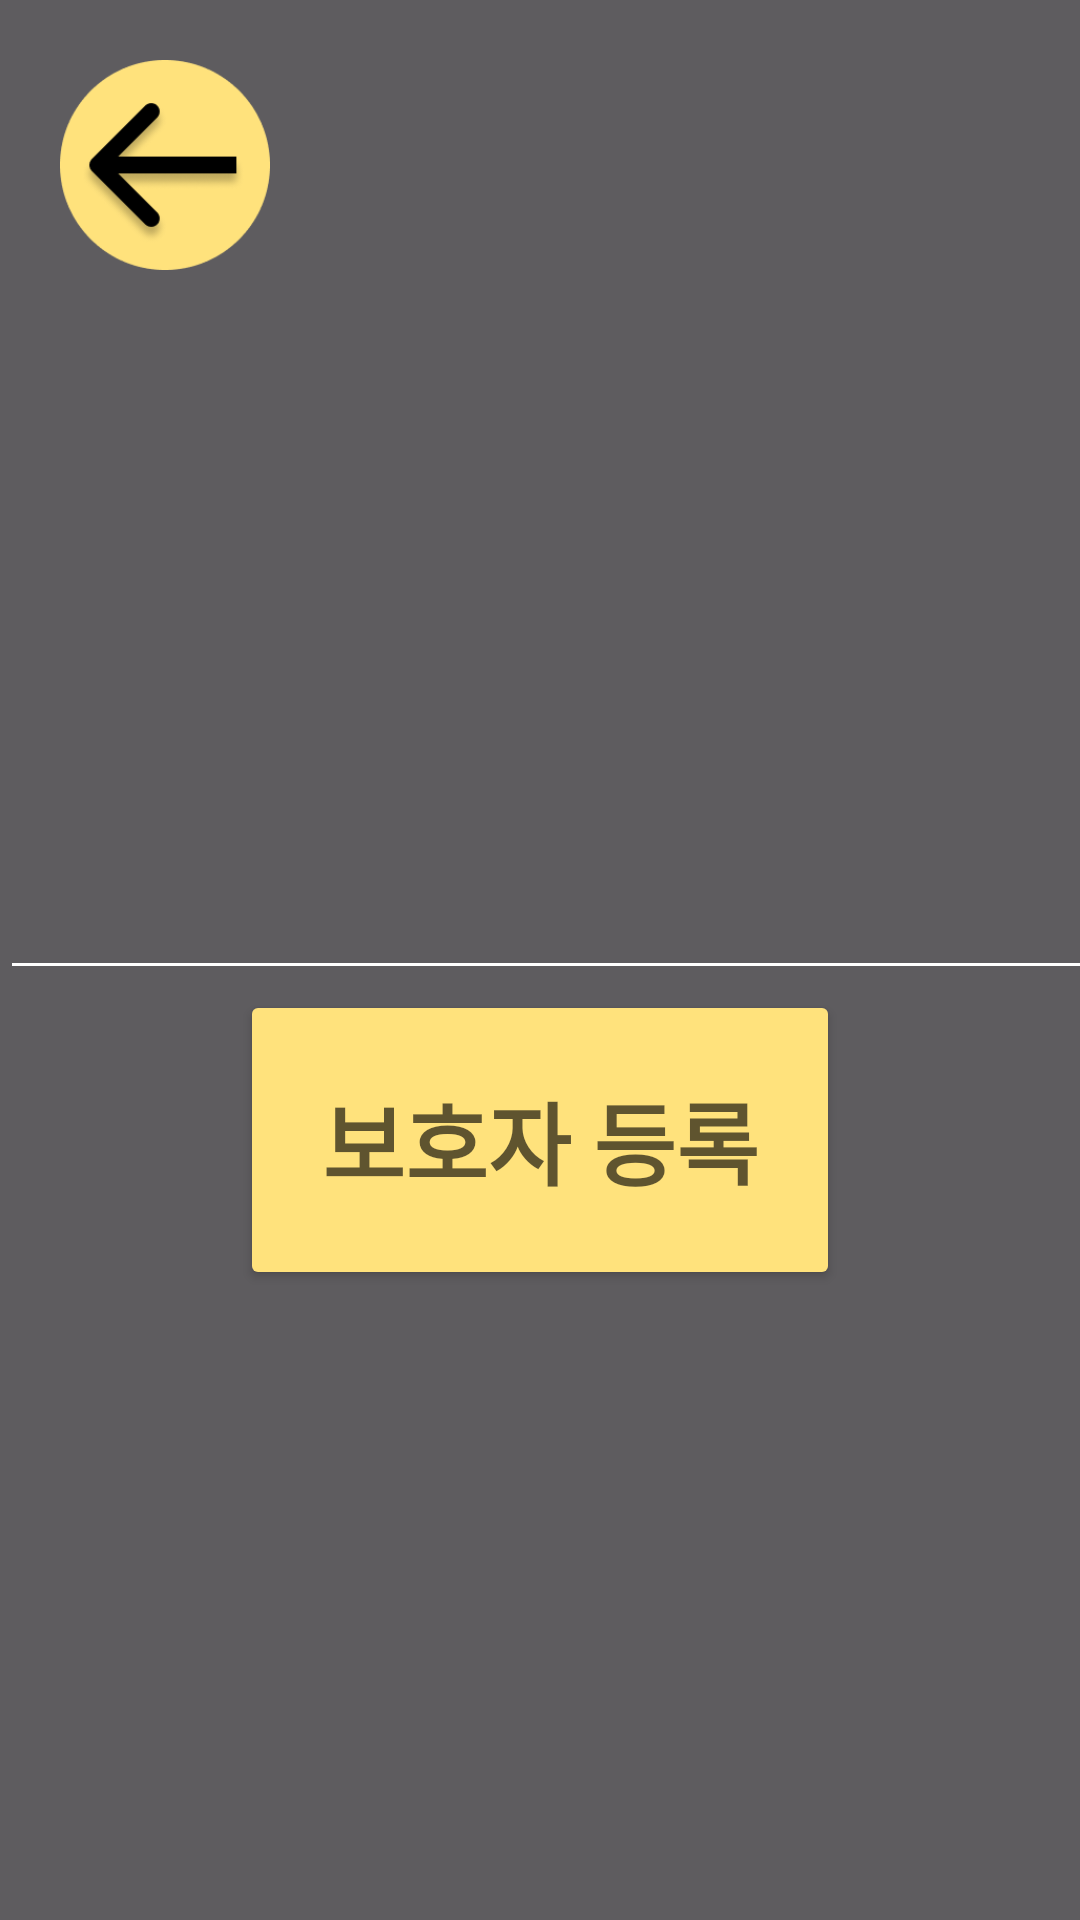

Icons on this 1080×1920 Android screen, each with its box as (x1, y1, x2, y2):
backbutton mini: (60, 60, 270, 270)
